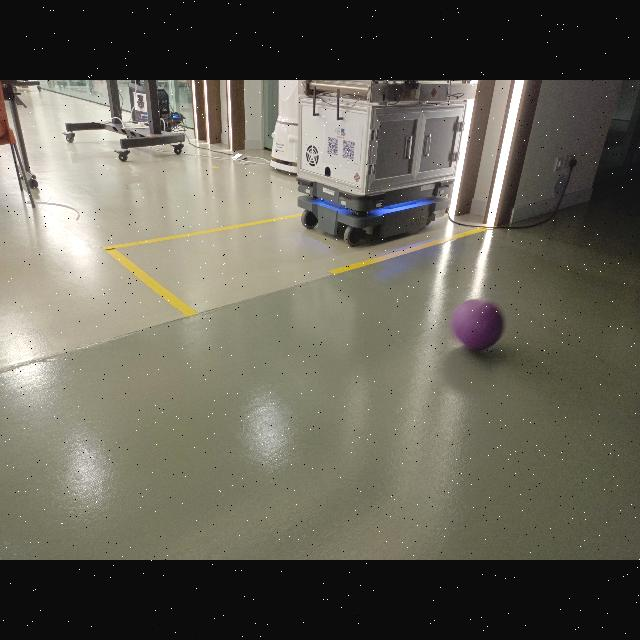P: (451, 298, 504, 352)
